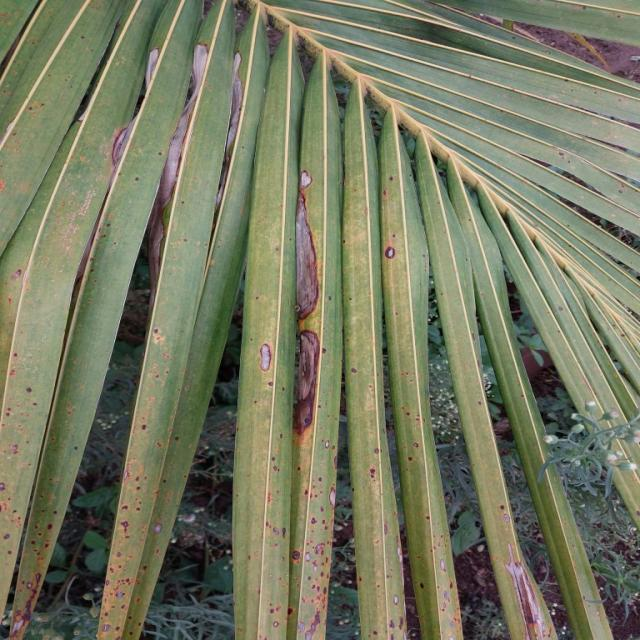gray leaf spot: (128, 29, 342, 429)
